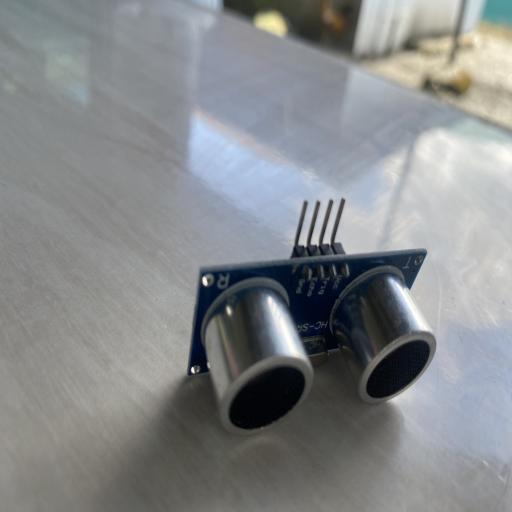Ultrasonic Sensor: (186, 196, 438, 436)
